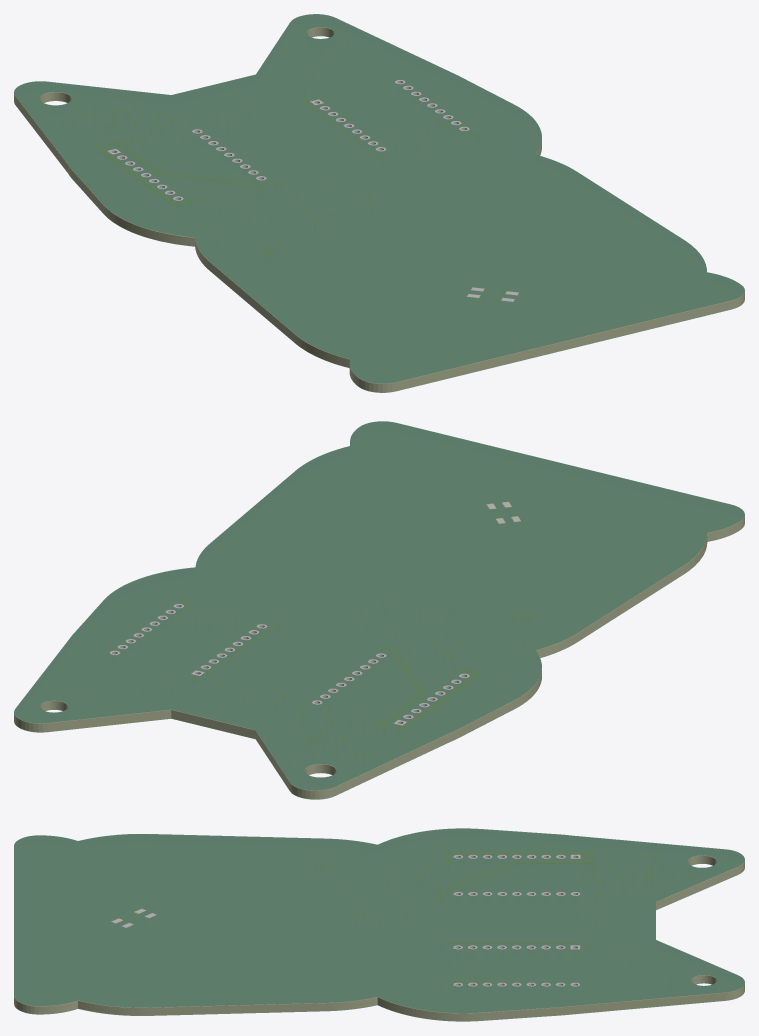
Rendered from meow.glb.
3 renders of one model, top to bottom at view 1: azimuth 30°, elevation 25°; view 2: azimuth 150°, elevation 25°; view 3: azimuth 270°, elevation 25°, orthographic. The views are drawn at different scales.
Parts seen in each view (by area): view 1: =>[0:1:1:8], =>[0:1:1:6], =>[0:1:1:2]; view 2: =>[0:1:1:8], =>[0:1:1:6], =>[0:1:1:2]; view 3: =>[0:1:1:8], =>[0:1:1:6], =>[0:1:1:2].
Boxes of the visible parts, box(x1,y1,x2,y2) form: =>[0:1:1:8]: box(14, 15, 744, 392); =>[0:1:1:6]: box(14, 14, 744, 392); =>[0:1:1:2]: box(61, 44, 518, 301); =>[0:1:1:8]: box(14, 422, 744, 799); =>[0:1:1:6]: box(14, 421, 744, 799); =>[0:1:1:2]: box(61, 502, 532, 757); =>[0:1:1:8]: box(14, 829, 744, 1021); =>[0:1:1:6]: box(14, 828, 744, 1021); =>[0:1:1:2]: box(111, 846, 692, 987).
Size of the model in its own units: 0.0758 by 0.00163 by 0.1267.
4 materials, 4 textured.
